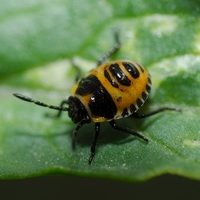insect: (13, 32, 181, 163)
